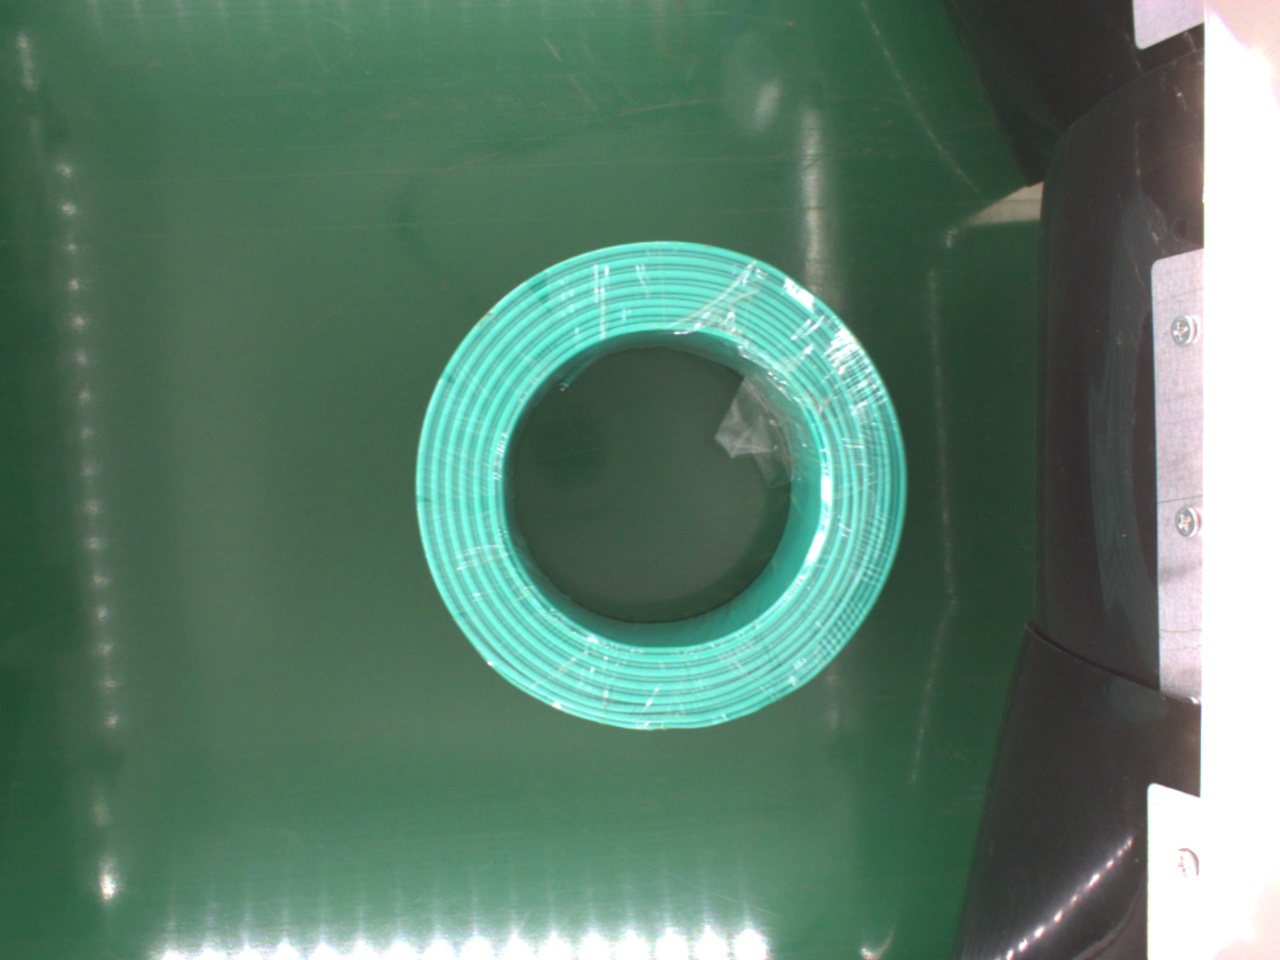green: (402, 235, 913, 733)
